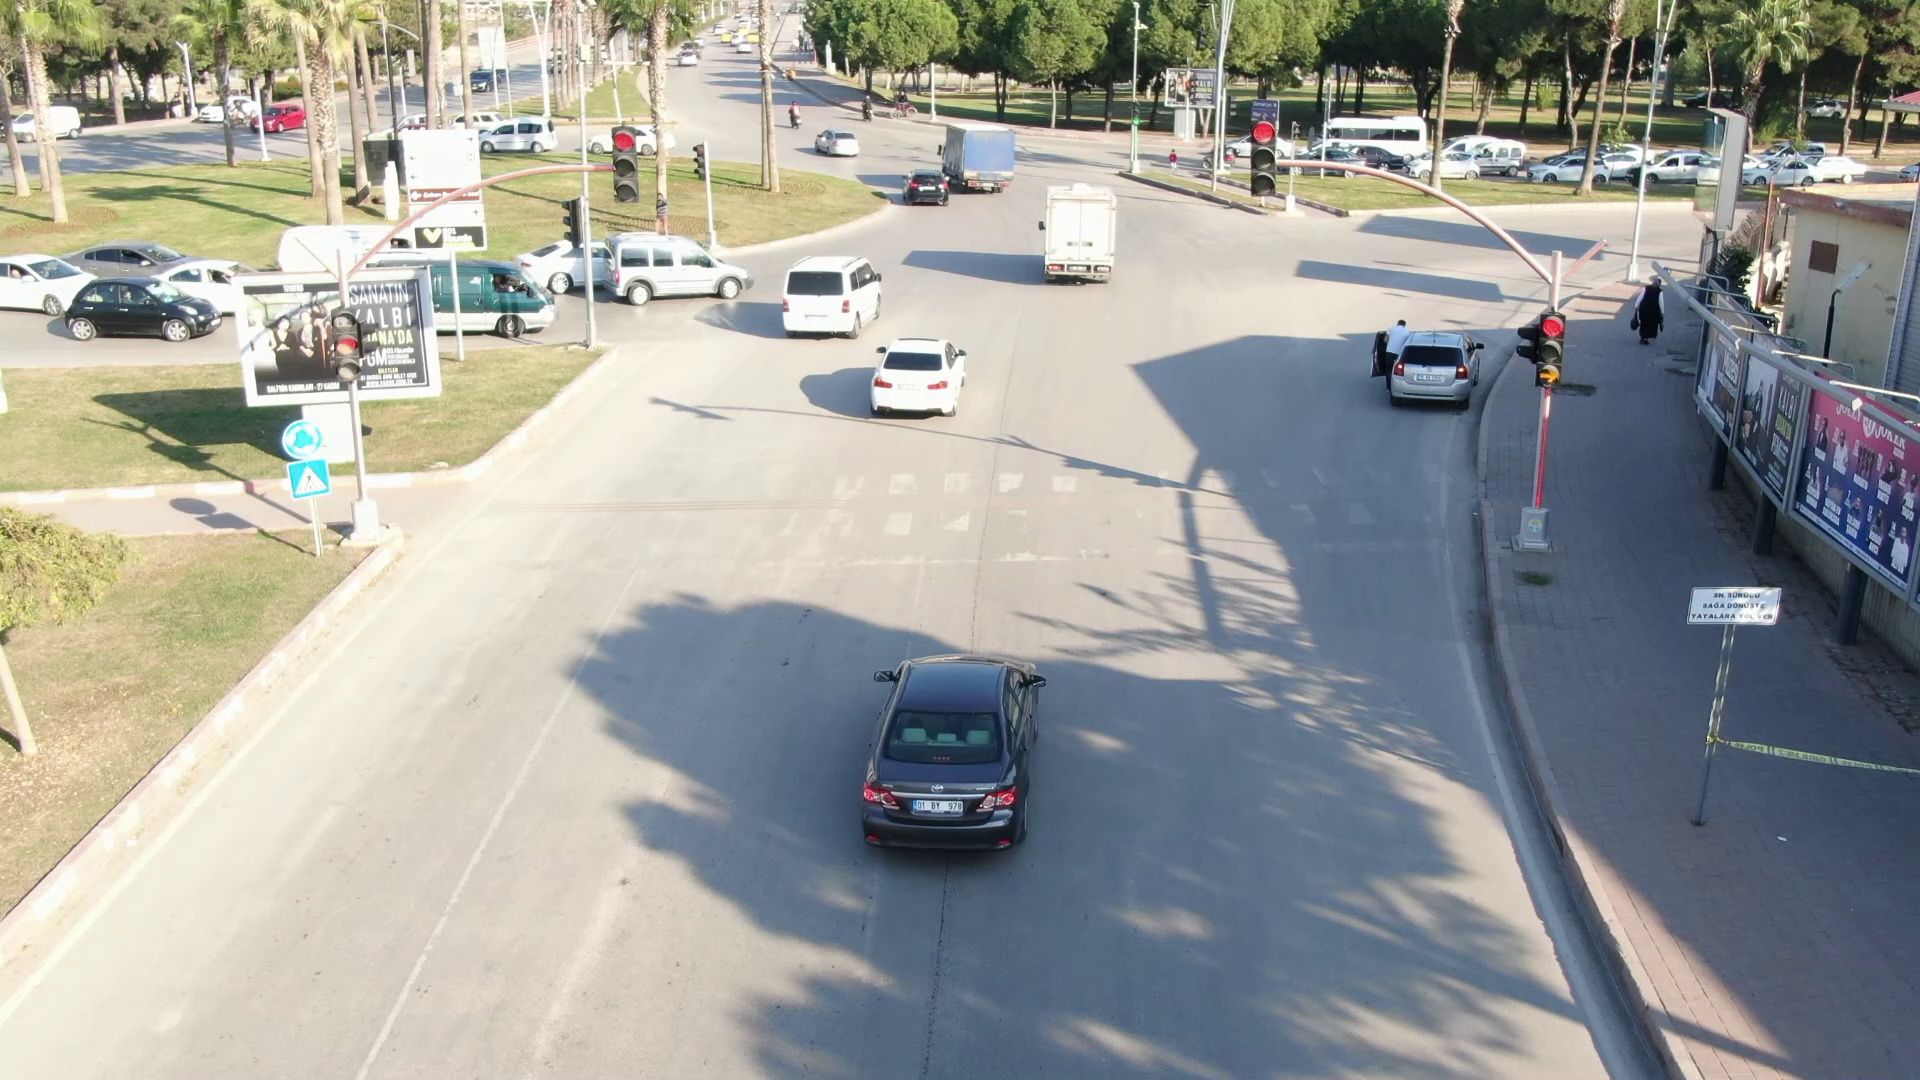car: (823, 628, 1093, 884), (601, 221, 757, 313), (1028, 178, 1143, 296), (53, 274, 228, 350), (864, 332, 979, 433), (778, 245, 889, 342), (1386, 331, 1489, 410), (931, 114, 1025, 198), (893, 162, 954, 212)
person: (1627, 267, 1675, 349)
